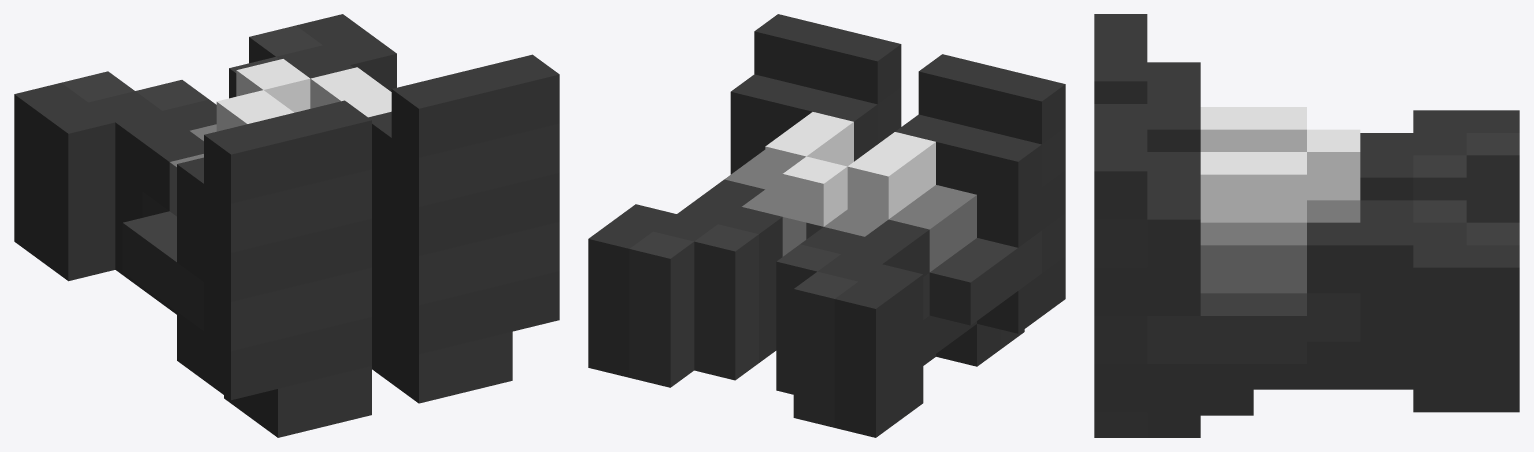
The model's file is 210503berobotv2-0.obj.
The picture shows the model from 3 angles, left to right: view 1: azimuth 30°, elevation 25°; view 2: azimuth 150°, elevation 25°; view 3: azimuth 270°, elevation 25°; orthographic projection. The views are drawn at different scales.
Size of the model in its own units: 0.7 by 0.6 by 0.8.
1 material, 1 textured.
